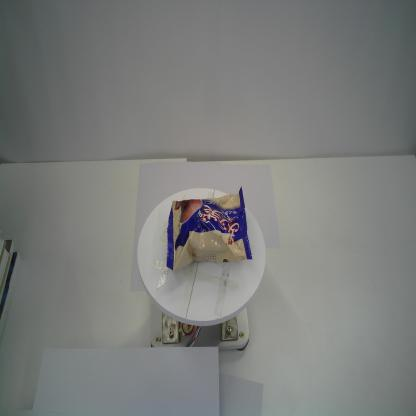Dessert: (165, 184, 252, 272)
